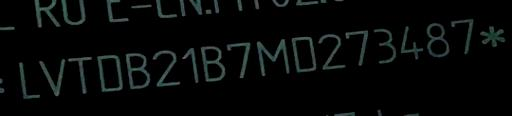letter: (226, 36, 256, 78), (259, 36, 289, 78), (152, 45, 182, 87), (450, 15, 480, 56), (316, 30, 344, 72), (39, 55, 67, 96), (344, 27, 372, 67), (68, 53, 94, 94), (426, 21, 452, 60), (372, 24, 398, 63), (98, 51, 122, 93), (200, 41, 226, 79), (16, 58, 40, 99), (292, 33, 316, 73), (126, 49, 148, 89), (401, 24, 423, 61), (184, 43, 200, 85)
